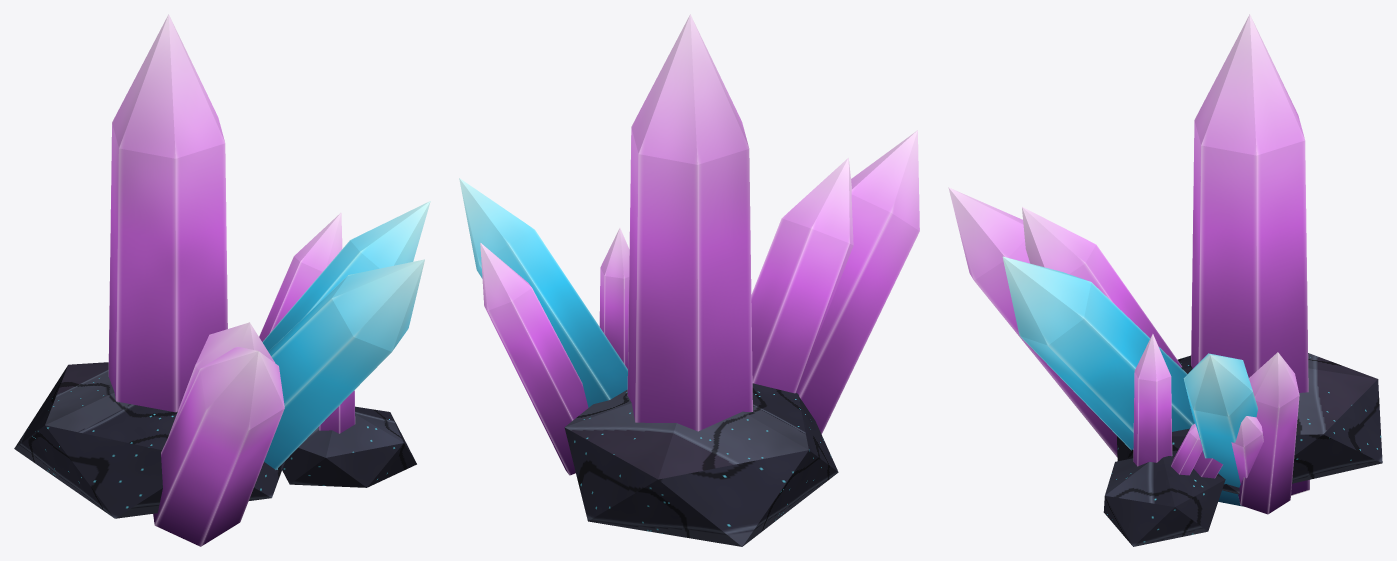
File: crystal_spire_orchid.glb
3 views of the same model, side by side, from view 1: azimuth 30°, elevation 25°; view 2: azimuth 150°, elevation 25°; view 3: azimuth 270°, elevation 25° (orthographic). The views are drawn at different scales.
Visible parts, largest first — view 1: crystal_spire_orchid; view 2: crystal_spire_orchid; view 3: crystal_spire_orchid.
Part boxes in pixels (<box>): crystal_spire_orchid: <box>14,14,430,546</box>; crystal_spire_orchid: <box>459,14,919,546</box>; crystal_spire_orchid: <box>948,14,1382,546</box>.
Size of the model in its own units: 2.31 by 2.95 by 2.46.
3 materials, 3 textured.
